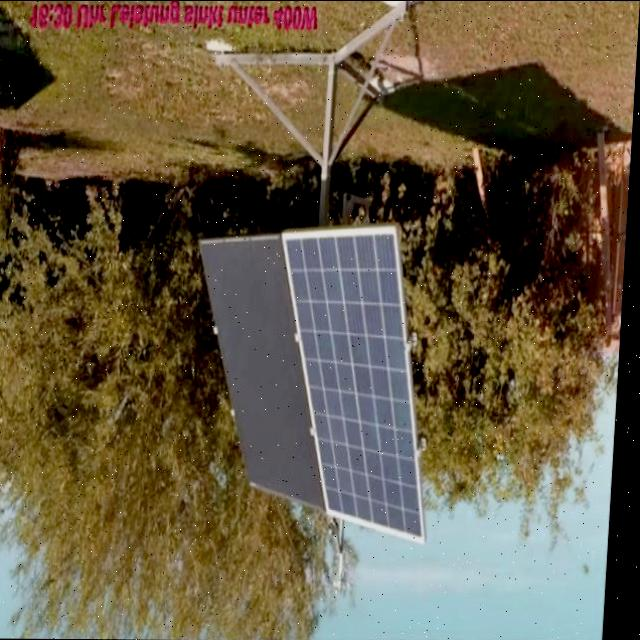Normal Solar Panel: (190, 222, 448, 542)
